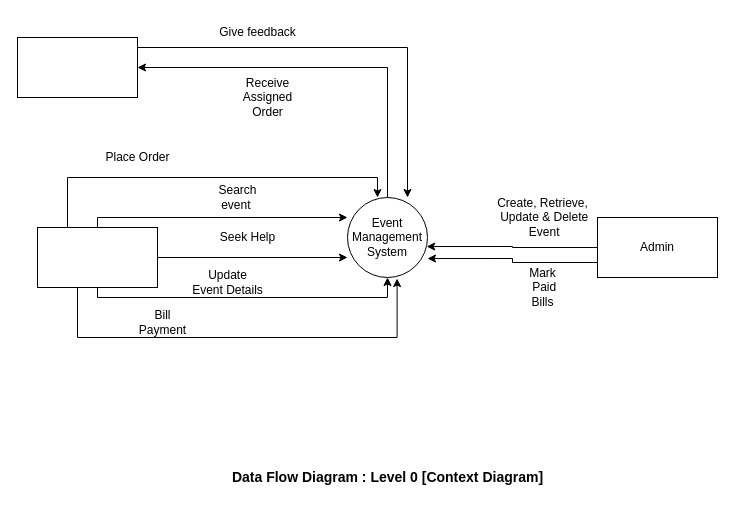
This 735x509 diagram has some shape labels left out. Each missing label, with the centre of its shape:
Customer: [97,257]
Manager: [77,67]
